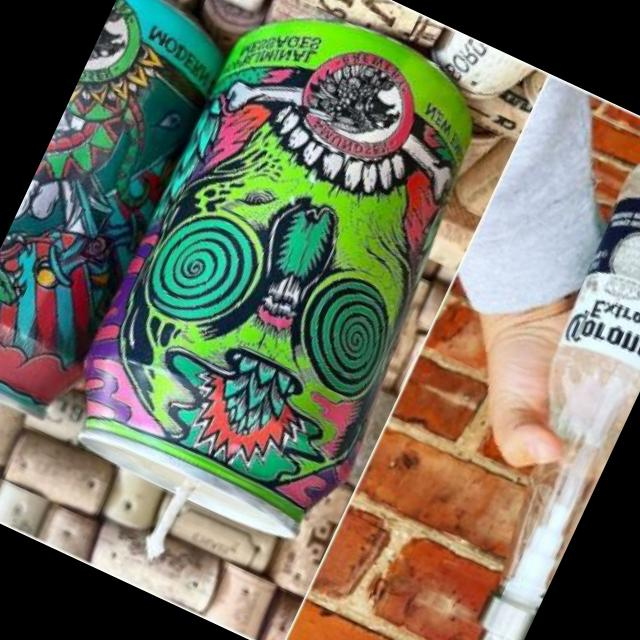BotolKaca: (434, 133, 640, 631)
Kaleng: (0, 0, 517, 549), (387, 143, 640, 640)
